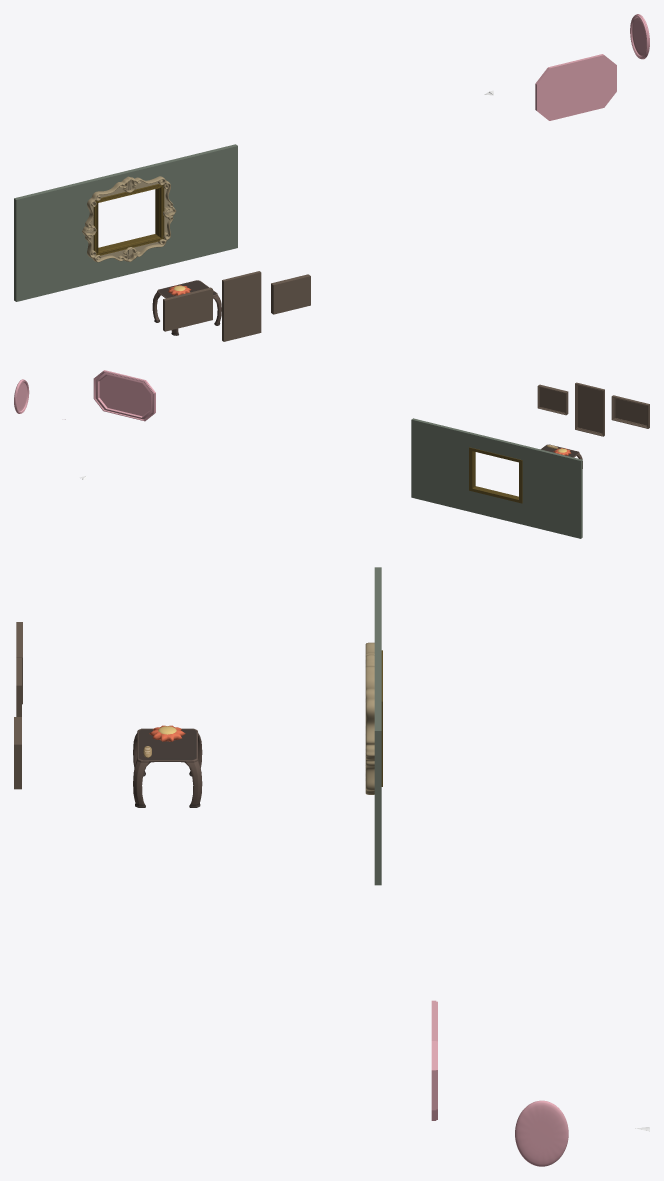
The model's file is Love_duck.fbx.
The picture shows the model from 3 angles, top to bottom: view 1: azimuth 30°, elevation 25°; view 2: azimuth 150°, elevation 25°; view 3: azimuth 270°, elevation 25°; orthographic projection. The views are drawn at different scales.
Parts seen in each view (by area): view 1: polySurface38, pCube50, pCube73, pPlane34, pCube58, polySurface35, pCube59, polySurface37, pCube60, pCylinder13; view 2: polySurface38, pCube50, pCube73, pCube58, polySurface35, pCube59, pCylinder13; view 3: pCube60, pCylinder13, polySurface38, pPlane34, pCube50.
Part boxes in pixels (x1=…): polySurface38: x1=14, y1=144, x2=237, y2=301; pCube50: x1=535, y1=54, x2=616, y2=120; pCube73: x1=222, y1=271, x2=261, y2=341; pPlane34: x1=82, y1=176, x2=176, y2=262; pCube58: x1=163, y1=287, x2=212, y2=331; polySurface35: x1=93, y1=184, x2=164, y2=255; pCube59: x1=271, y1=274, x2=310, y2=314; polySurface37: x1=86, y1=180, x2=172, y2=259; pCube60: x1=152, y1=280, x2=221, y2=335; pCylinder13: x1=630, y1=14, x2=649, y2=59; polySurface38: x1=411, y1=418, x2=582, y2=538; pCube50: x1=93, y1=370, x2=155, y2=421; pCube73: x1=575, y1=382, x2=604, y2=436; pCube58: x1=611, y1=395, x2=649, y2=428; polySurface35: x1=469, y1=447, x2=522, y2=503; pCube59: x1=537, y1=384, x2=568, y2=415; pCylinder13: x1=14, y1=379, x2=29, y2=413; pCube60: x1=133, y1=728, x2=202, y2=807; pCylinder13: x1=515, y1=1100, x2=568, y2=1166; polySurface38: x1=374, y1=567, x2=381, y2=885; pPlane34: x1=365, y1=642, x2=374, y2=794; pCube50: x1=431, y1=1000, x2=437, y2=1120.
Size of the model in its own units: 2335 by 334 by 1247.
